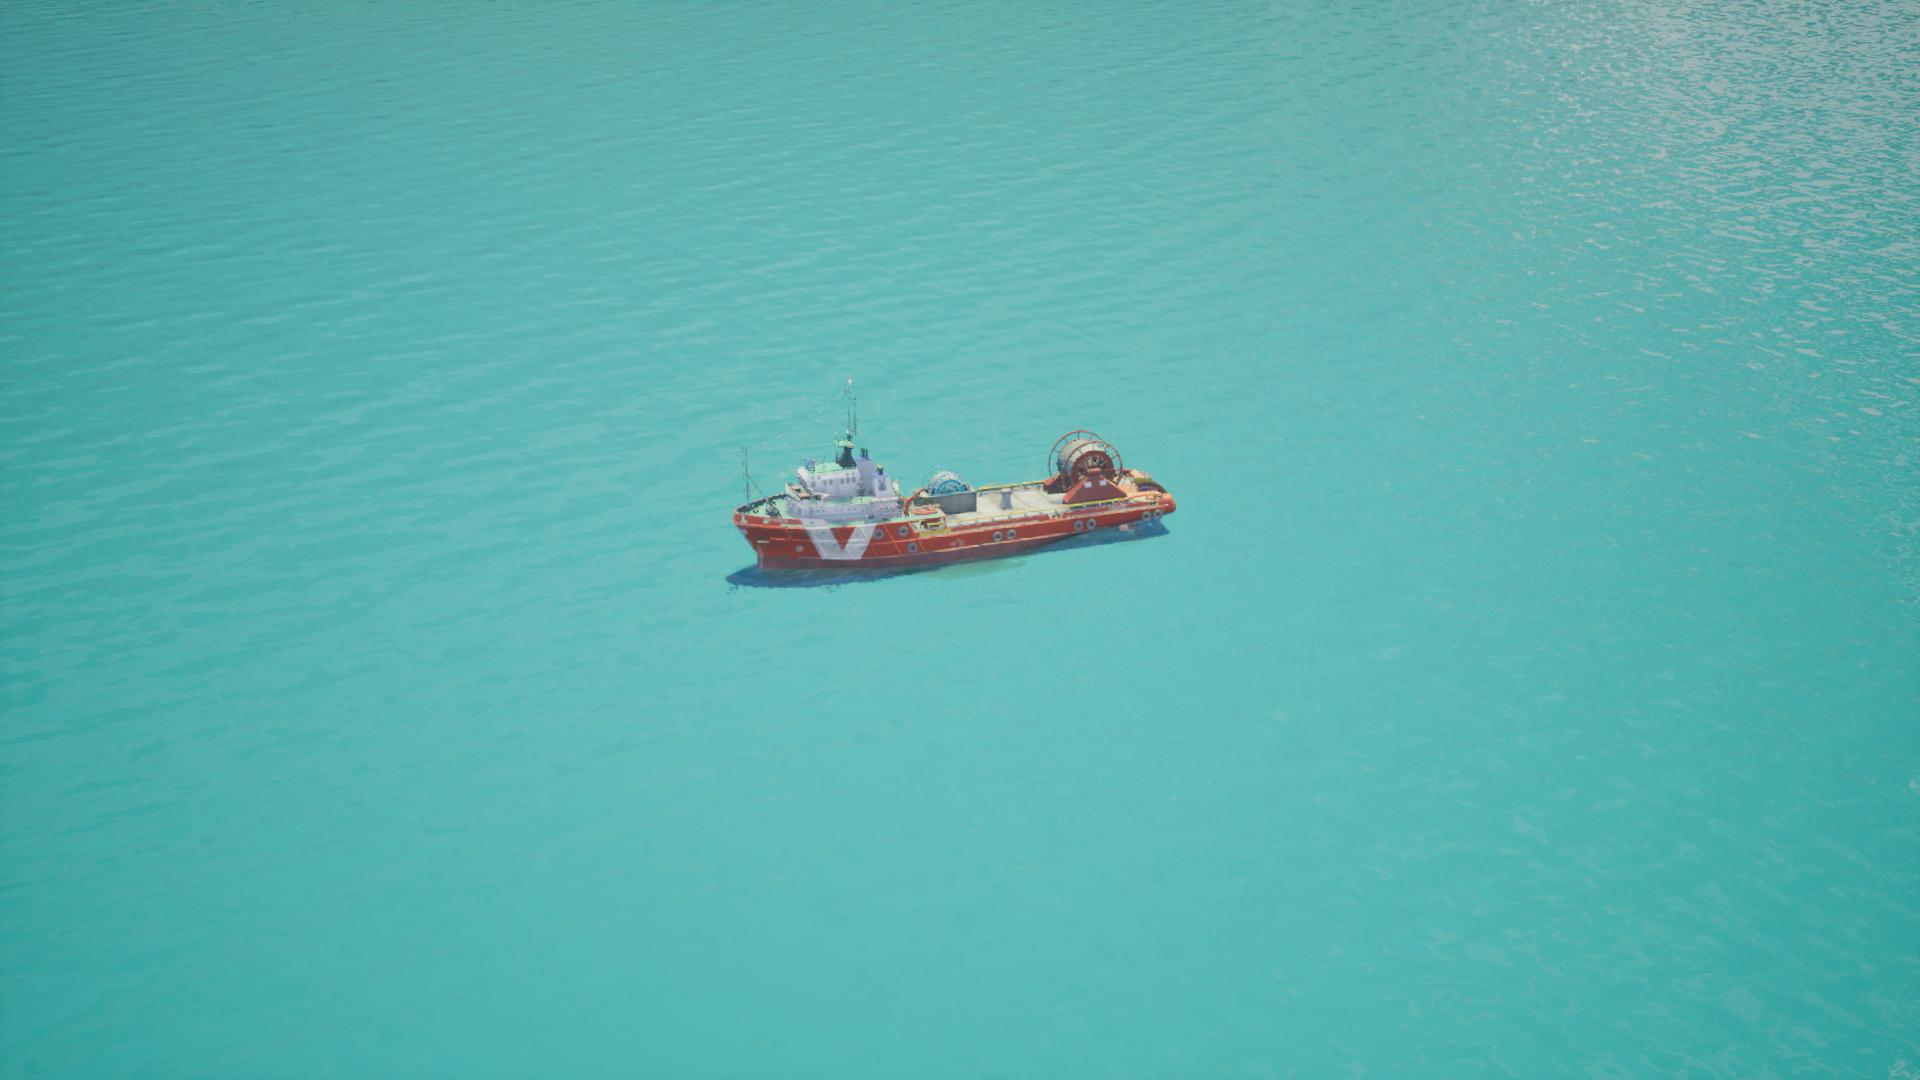Tug Boat: (729, 393, 1174, 588)
